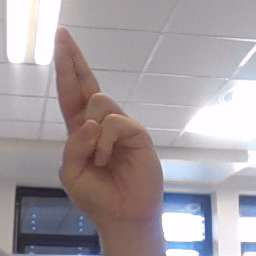R: (49, 26, 170, 213)
